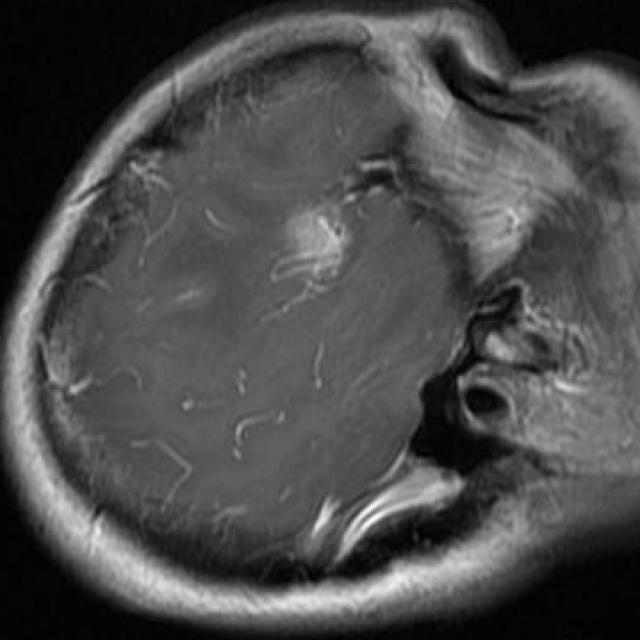glioma: (271, 201, 348, 285)
